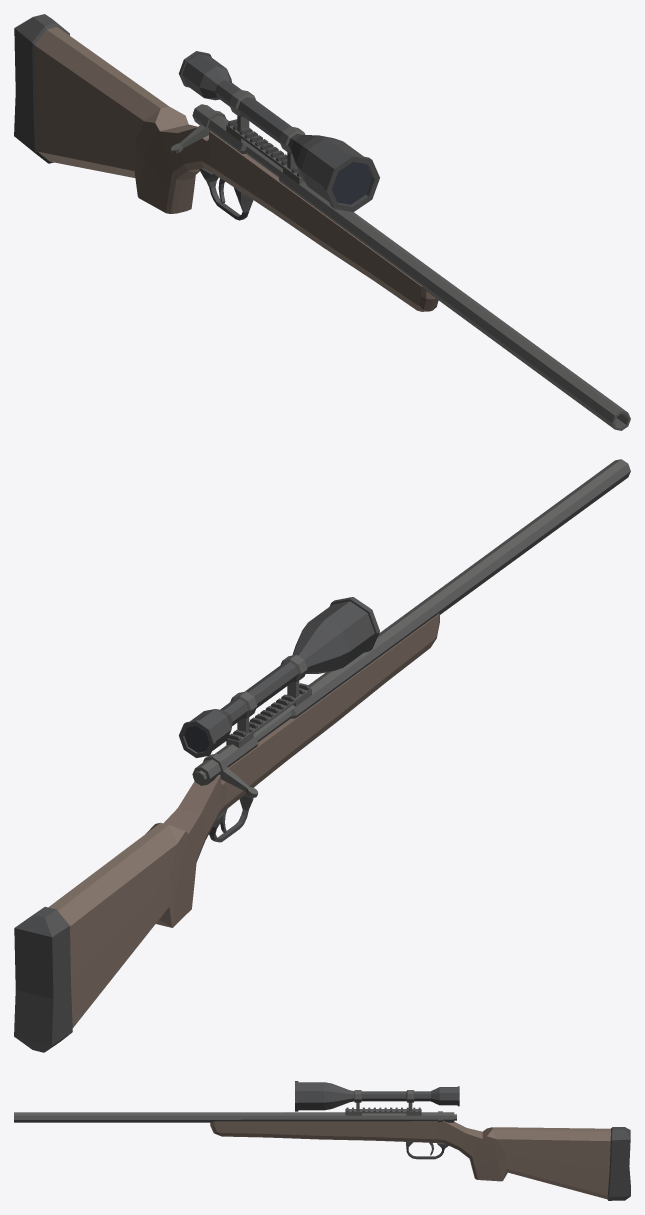
The model's file is sniper-2.glb.
3 views of the same model, one above another, from view 1: azimuth 30°, elevation 25°; view 2: azimuth 150°, elevation 25°; view 3: azimuth 270°, elevation 25° (orthographic). The views are drawn at different scales.
Visible parts, largest first — view 1: SniperRifle_6; view 2: SniperRifle_6; view 3: SniperRifle_6.
Boxes of the visible parts, x1,y1,x2,y2 form: SniperRifle_6: [14, 14, 630, 430]; SniperRifle_6: [14, 459, 630, 1052]; SniperRifle_6: [14, 1081, 630, 1200].
Bounding box in the file's own units: 0.0685 × 0.2107 × 1.
